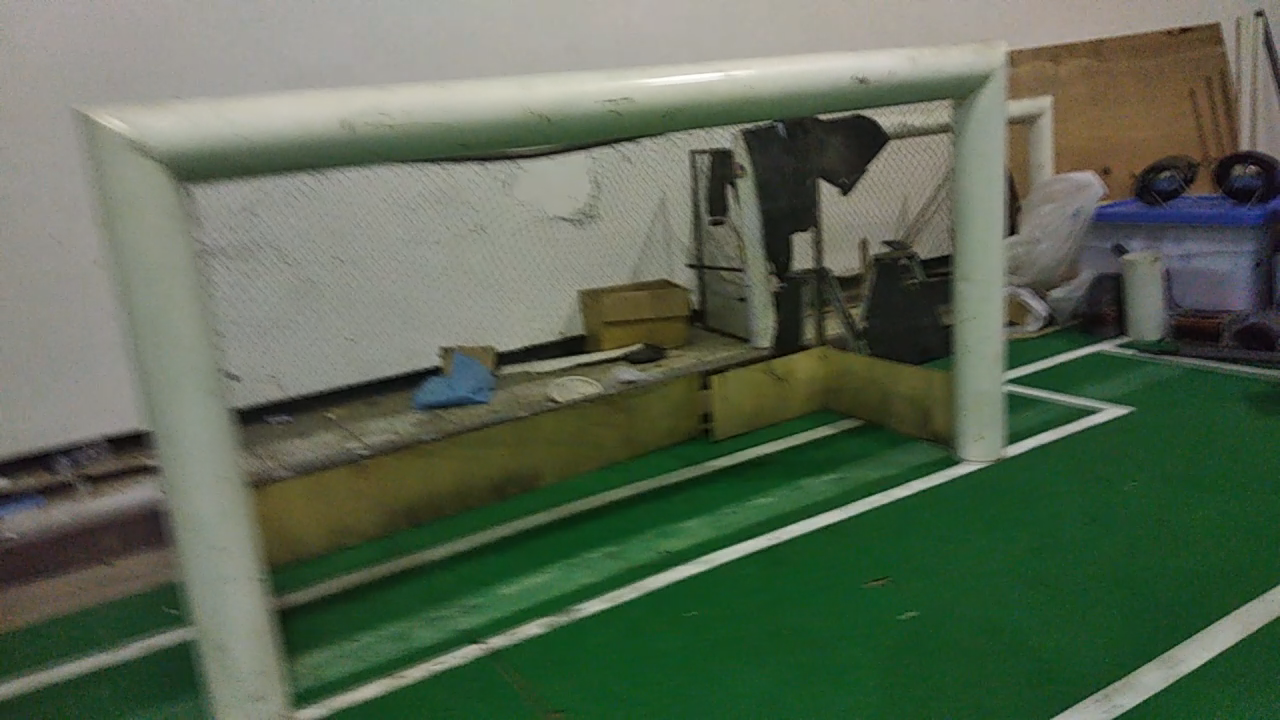gawang: (52, 24, 1021, 713)
